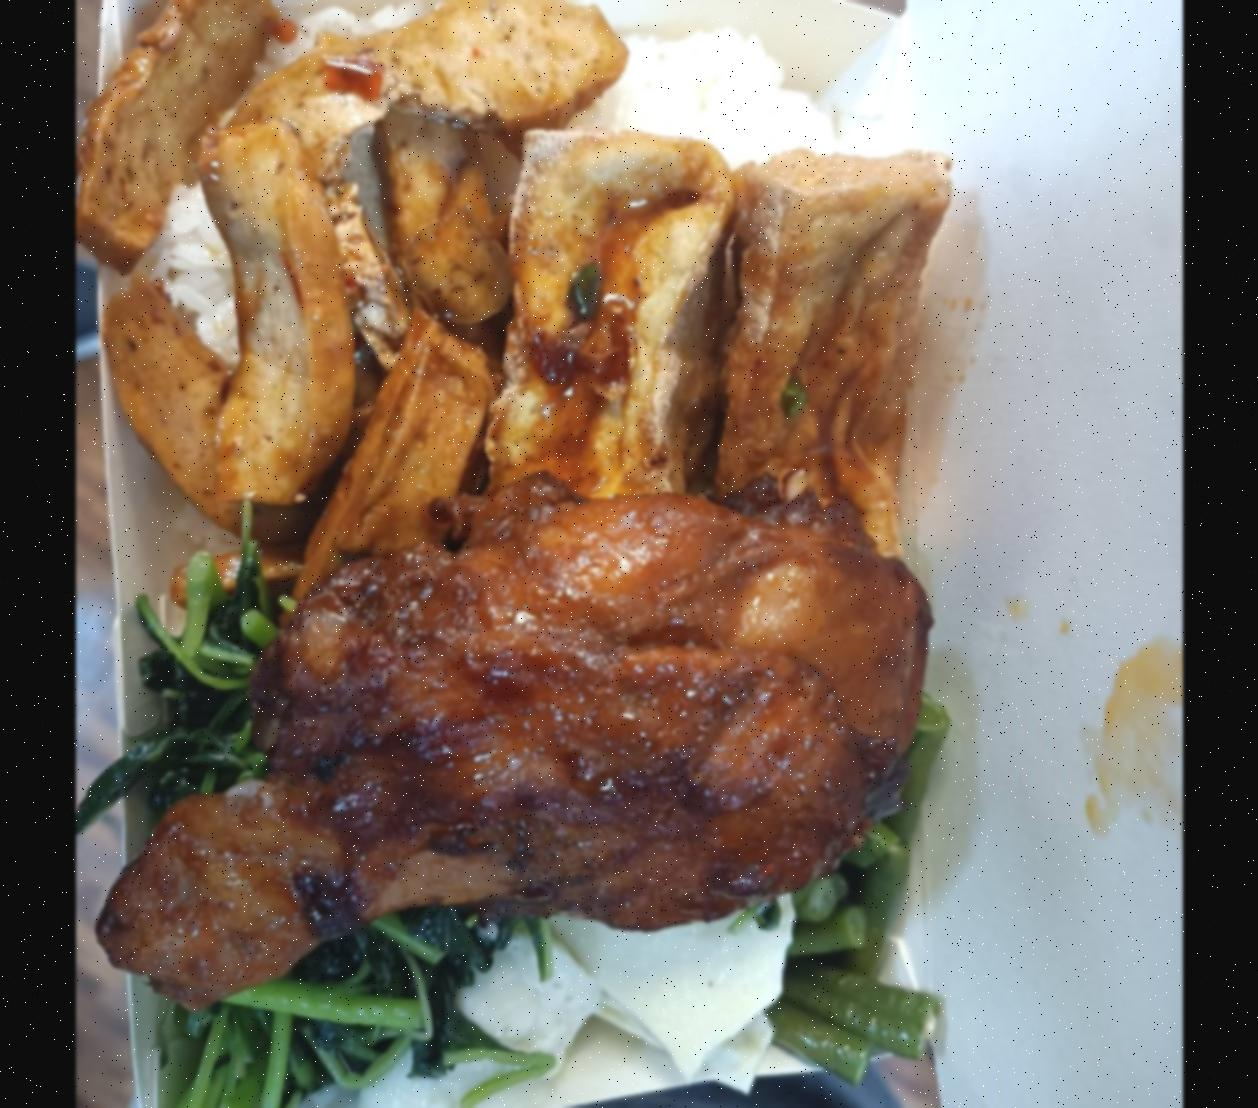box: (83, 0, 937, 1108)
side dish: (110, 0, 595, 572), (482, 125, 960, 554), (126, 590, 445, 1108), (348, 910, 806, 1108), (787, 726, 945, 1065)
